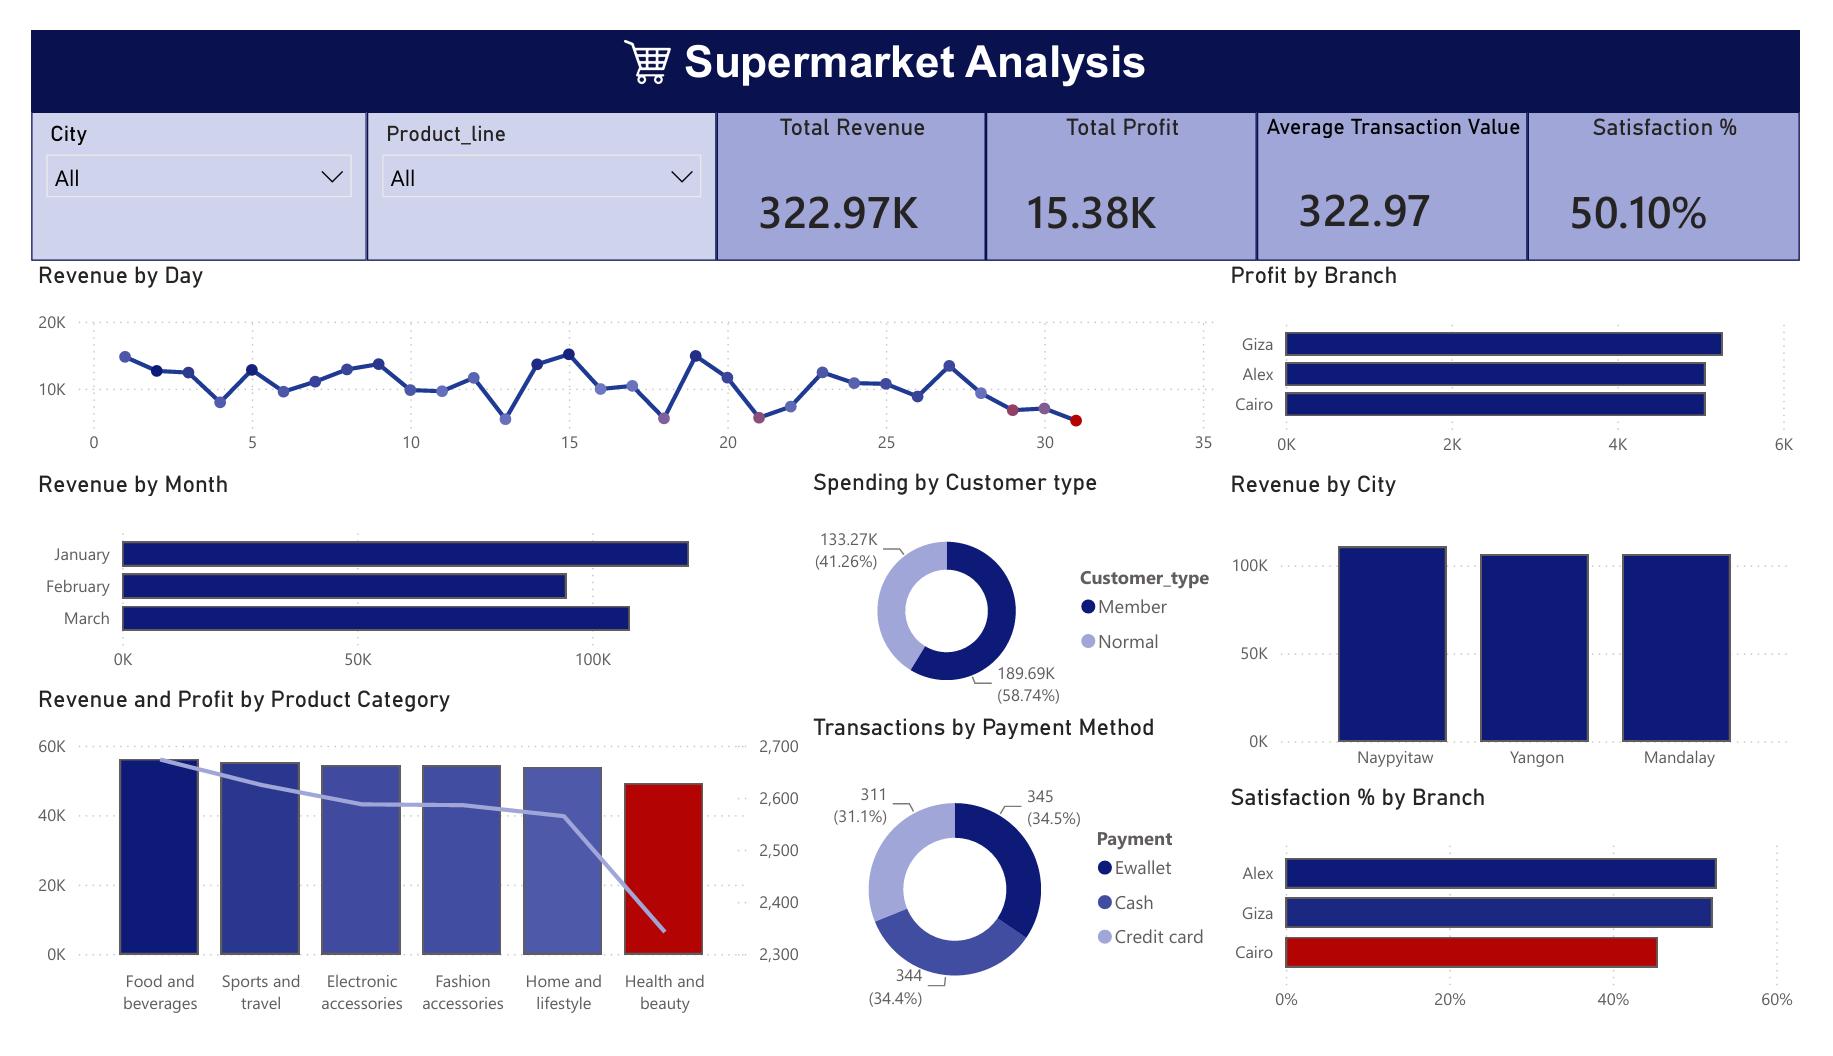

What the dashboard file says about the page in this screenshot:
{"tool":"powerbi","page":{"name":"Page 1","canvas":[1280,720],"ordinal":0},"visuals":[{"type":"clusteredColumnChart","title":"Revenue by City","fields":{"Y":["Sum(SuperMarket_Cleaned.Sales)"],"Category":["SuperMarket_Cleaned.City"]},"box":[862.8,317.5,417.2,227.7],"z":0},{"type":"clusteredBarChart","title":"Profit by Branch","fields":{"Category":["SuperMarket_Cleaned.Branch"],"Y":["Sum(SuperMarket_Cleaned.gross_income)"]},"box":[862.8,167.4,417.2,150.2],"z":1000},{"type":"lineClusteredColumnComboChart","title":" Revenue and Profit by Product Category","fields":{"Category":["SuperMarket_Cleaned.Product_line"],"Y":["Sum(SuperMarket_Cleaned.Sales)"],"Y2":["Sum(SuperMarket_Cleaned.gross_income)"]},"box":[0,473.8,561.2,246.2],"z":2000},{"type":"donutChart","title":"Spending by Customer type","fields":{"Category":["SuperMarket_Cleaned.Customer_type"],"Y":["Sum(SuperMarket_Cleaned.Sales)"]},"box":[561.4,317.1,301.4,177.1],"z":3000},{"type":"donutChart","title":"Transactions by Payment Method","fields":{"Category":["SuperMarket_Cleaned.Payment"],"Y":["CountNonNull(SuperMarket_Cleaned.Invoice_ID)"]},"box":[561.4,494.3,301.4,225.7],"z":4000},{"type":"clusteredBarChart","fields":{"Category":["SuperMarket_Cleaned.Branch"],"Y":["SuperMarket_Cleaned.Satisfaction %"]},"box":[862.8,545.2,417.2,174.8],"z":5000},{"type":"lineChart","title":"Revenue by Day","fields":{"Y":["Sum(SuperMarket_Cleaned.Sales)"],"Category":["SuperMarket_Cleaned.Day"]},"box":[0,167.1,862.9,150],"z":6000},{"type":"cardVisual","title":"Satisfaction %","fields":{"Data":["SuperMarket_Cleaned.Satisfaction %"]},"box":[1082.9,58.6,197.1,108.6],"z":7000},{"type":"barChart","title":"Revenue by Month","fields":{"Y":["Sum(SuperMarket_Cleaned.Sales)"],"Category":["SuperMarket_Cleaned.Month Name"]},"box":[0,317.5,561.2,156.3],"z":8000},{"type":"cardVisual","title":"Average Transaction Value","fields":{"Data":["Avg(SuperMarket_Cleaned.Sales)"]},"box":[887.1,58.6,195.7,108.6],"z":9000},{"type":"cardVisual","title":"Total Profit","fields":{"Data":["Sum(SuperMarket_Cleaned.gross_income)"]},"box":[691.4,58.6,195.7,108.6],"z":10000},{"type":"cardVisual","title":"Total Revenue","fields":{"Data":["Sum(SuperMarket_Cleaned.Sales)"]},"box":[495.7,58.6,195.7,108.6],"z":11000},{"type":"slicer","fields":{"Values":["SuperMarket_Cleaned.City"]},"box":[0,58.6,242.9,108.6],"z":12000},{"type":"slicer","fields":{"Values":["SuperMarket_Cleaned.Product_line"]},"box":[242.9,58.6,252.9,108.6],"z":13000},{"type":"textbox","box":[0,0,1280,59.1],"z":14000},{"type":"image","box":[416,0,60.3,45.5],"z":15000}]}

Visuals, with their boxes in screenshot pixels (x1, y1, x2, y2), scaled from the page's 1280x720 canvas onto the 1833x1056 screenshot:
"Revenue by City" clusteredColumnChart: box=[1236, 466, 1832, 800]
"Profit by Branch" clusteredBarChart: box=[1236, 246, 1832, 466]
" Revenue and Profit by Product Category" lineClusteredColumnComboChart: box=[0, 695, 804, 1055]
"Spending by Customer type" donutChart: box=[804, 465, 1236, 725]
"Transactions by Payment Method" donutChart: box=[804, 725, 1236, 1055]
clusteredBarChart - SuperMarket_Cleaned.Branch x SuperMarket_Cleaned.Satisfaction %: box=[1236, 800, 1832, 1055]
"Revenue by Day" lineChart: box=[0, 245, 1236, 465]
"Satisfaction %" cardVisual: box=[1551, 86, 1832, 245]
"Revenue by Month" barChart: box=[0, 466, 804, 695]
"Average Transaction Value" cardVisual: box=[1270, 86, 1551, 245]
"Total Profit" cardVisual: box=[990, 86, 1270, 245]
"Total Revenue" cardVisual: box=[710, 86, 990, 245]
slicer - SuperMarket_Cleaned.City: box=[0, 86, 348, 245]
slicer - SuperMarket_Cleaned.Product_line: box=[348, 86, 710, 245]
textbox: box=[0, 0, 1832, 87]
image: box=[596, 0, 682, 67]
